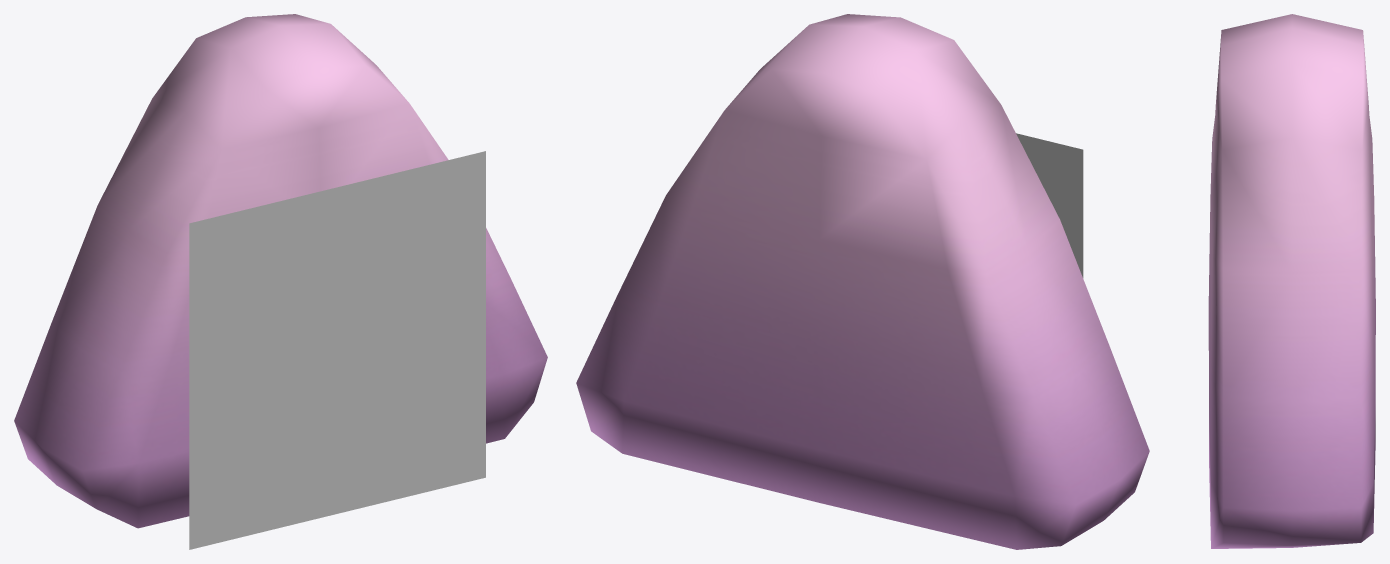
Rendered from Blob_Pink.fbx.
3 views of the same model, side by side, from view 1: azimuth 30°, elevation 25°; view 2: azimuth 150°, elevation 25°; view 3: azimuth 270°, elevation 25° (orthographic). The views are drawn at different scales.
Parts seen in each view (by area): view 1: Eyes_Pink, Blob_Pink; view 2: Blob_Pink, Eyes_Pink; view 3: Blob_Pink.
Part boxes in pixels (<box>): Eyes_Pink: <box>189,151,485,549</box>; Blob_Pink: <box>14,14,547,528</box>; Blob_Pink: <box>576,14,1149,549</box>; Eyes_Pink: <box>1016,133,1083,277</box>; Blob_Pink: <box>1208,14,1375,548</box>.
Bounding box in the file's own units: 1.29 × 1.15 × 0.4597.
